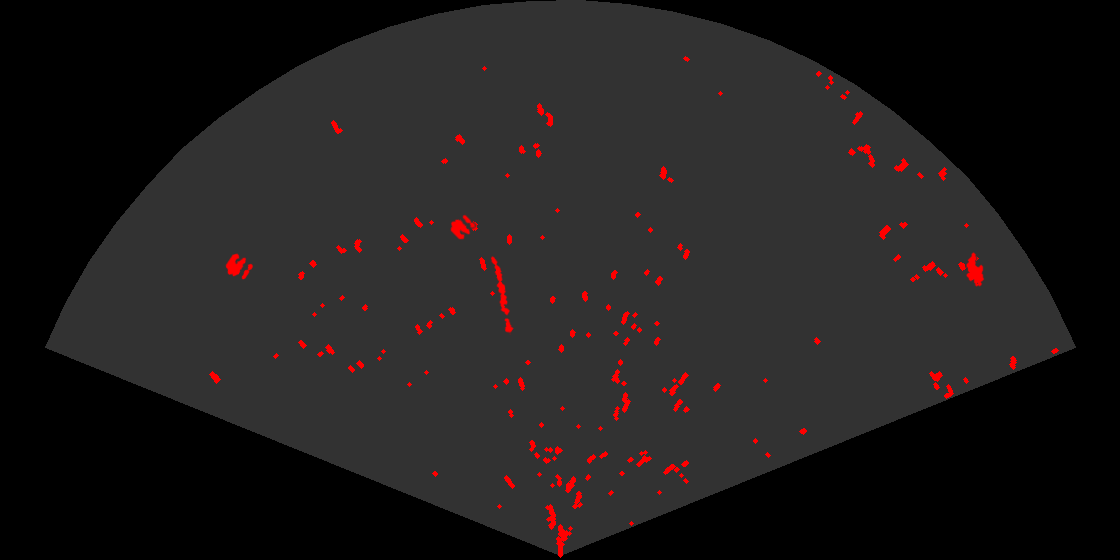AUV: (965, 251, 986, 288)
ball: (224, 252, 255, 281), (449, 213, 477, 241)
chain: (489, 254, 515, 335)
